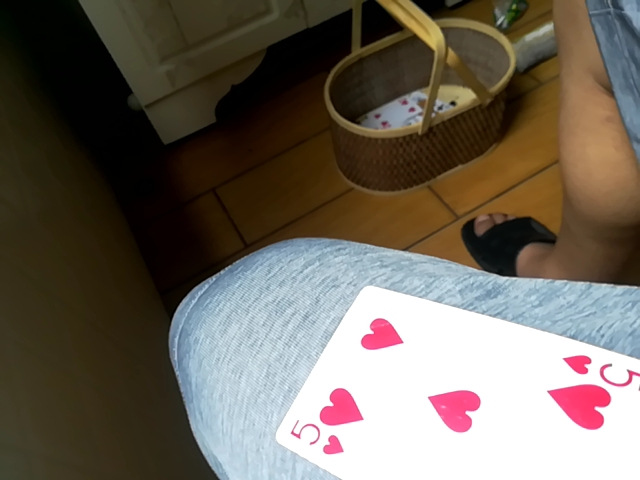hx 5: (270, 287, 637, 479)
